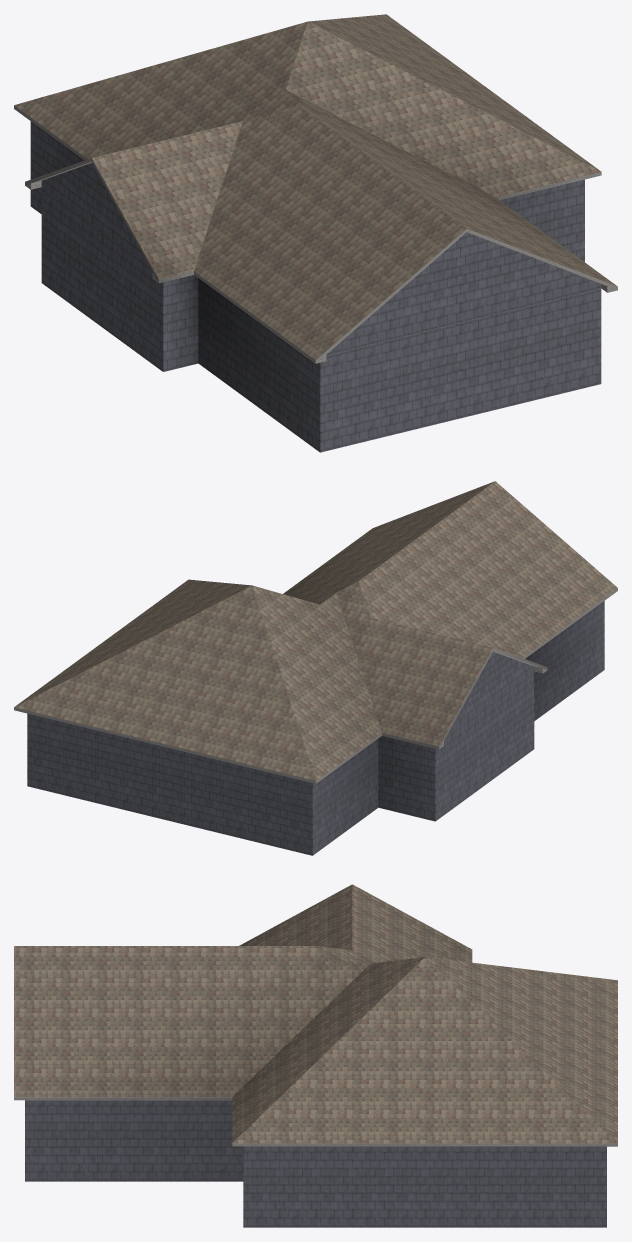
Rendered from house_05.glb.
3 views of the same model, one above another, from view 1: azimuth 30°, elevation 25°; view 2: azimuth 150°, elevation 25°; view 3: azimuth 270°, elevation 25° (orthographic). The views are drawn at different scales.
Parts seen in each view (by area): view 1: Export; view 2: Export; view 3: Export.
Boxes of the visible parts, bbox=[...] form: Export: bbox=[14, 14, 617, 452]; Export: bbox=[14, 481, 617, 855]; Export: bbox=[14, 884, 617, 1227].
Bounding box in the file's own units: 12.6 × 5.88 × 16.6.
3 materials, 3 textured.
